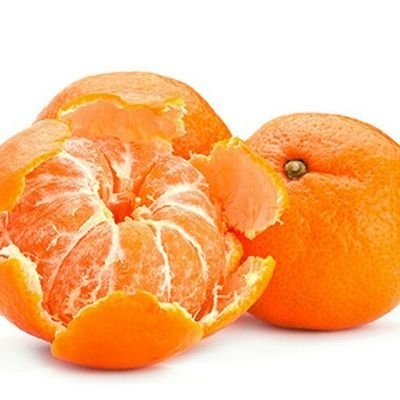mandarin: (1, 133, 221, 335), (225, 112, 400, 335)
